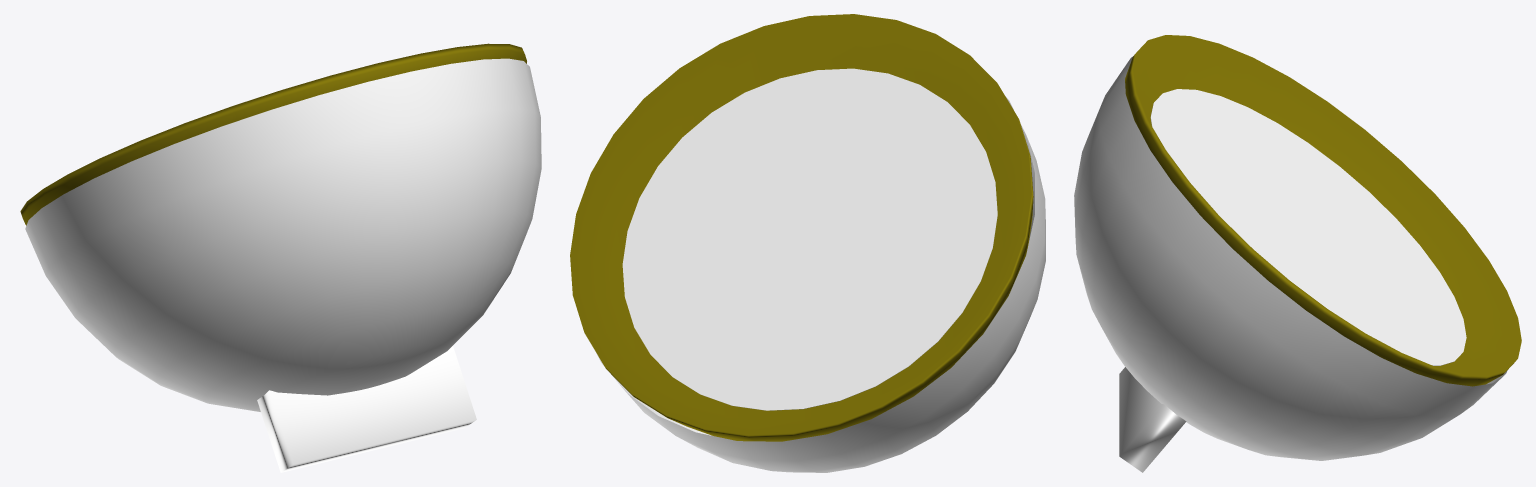
File: therapielamp.fbx
3 views of the same model, side by side, from view 1: azimuth 30°, elevation 25°; view 2: azimuth 150°, elevation 25°; view 3: azimuth 270°, elevation 25° (orthographic). The views are drawn at different scales.
Parts seen in each view (by area): view 1: Sphere, Cube, Cylinder.001; view 2: Cylinder, Cylinder.001, Sphere; view 3: Sphere, Cylinder, Cylinder.001, Cube.
Boxes of the visible parts, x1=… form: Sphere: x1=25, y1=58, x2=541, y2=411; Cube: x1=257, y1=346, x2=476, y2=472; Cylinder.001: x1=20, y1=43, x2=526, y2=225; Cylinder: x1=622, y1=68, x2=997, y2=410; Cylinder.001: x1=570, y1=14, x2=1033, y2=441; Sphere: x1=596, y1=96, x2=1045, y2=472; Sphere: x1=1074, y1=56, x2=1507, y2=460; Cylinder: x1=1150, y1=89, x2=1466, y2=365; Cylinder.001: x1=1125, y1=35, x2=1521, y2=386; Cube: x1=1119, y1=367, x2=1186, y2=472.
Size of the model in its own units: 200 by 165 by 183.
